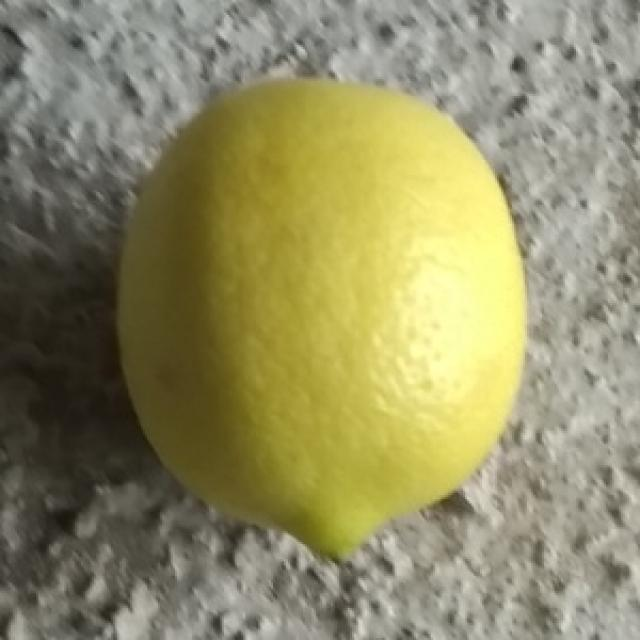Lemon: (114, 77, 532, 566)
